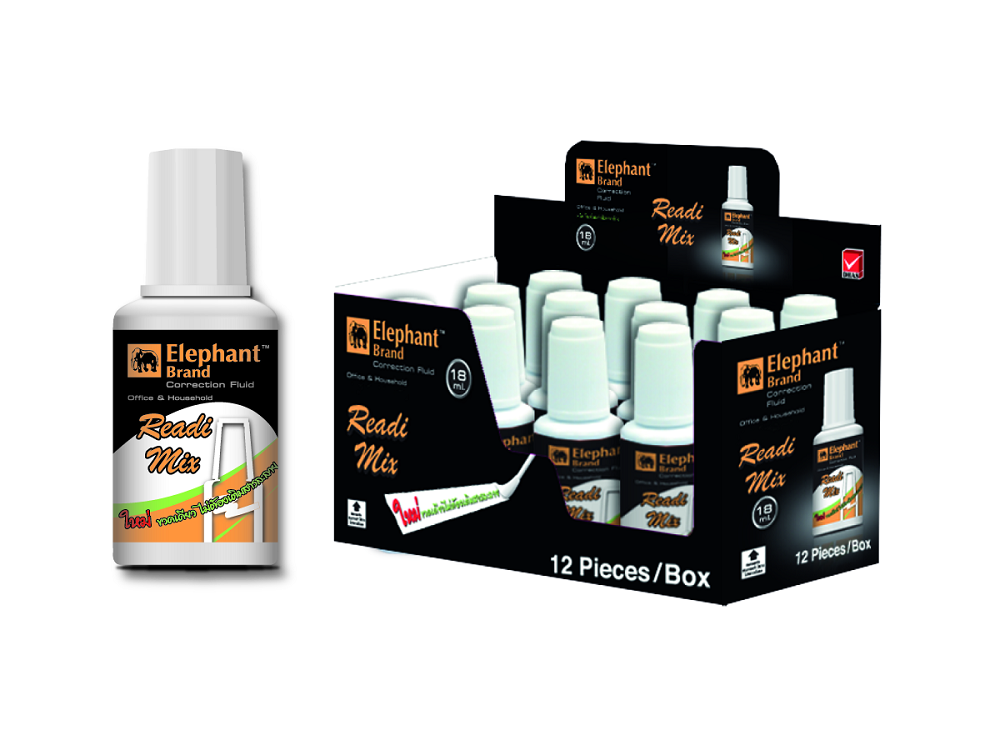Correction_fluid: (102, 142, 292, 583), (610, 318, 712, 543), (523, 315, 622, 543)
